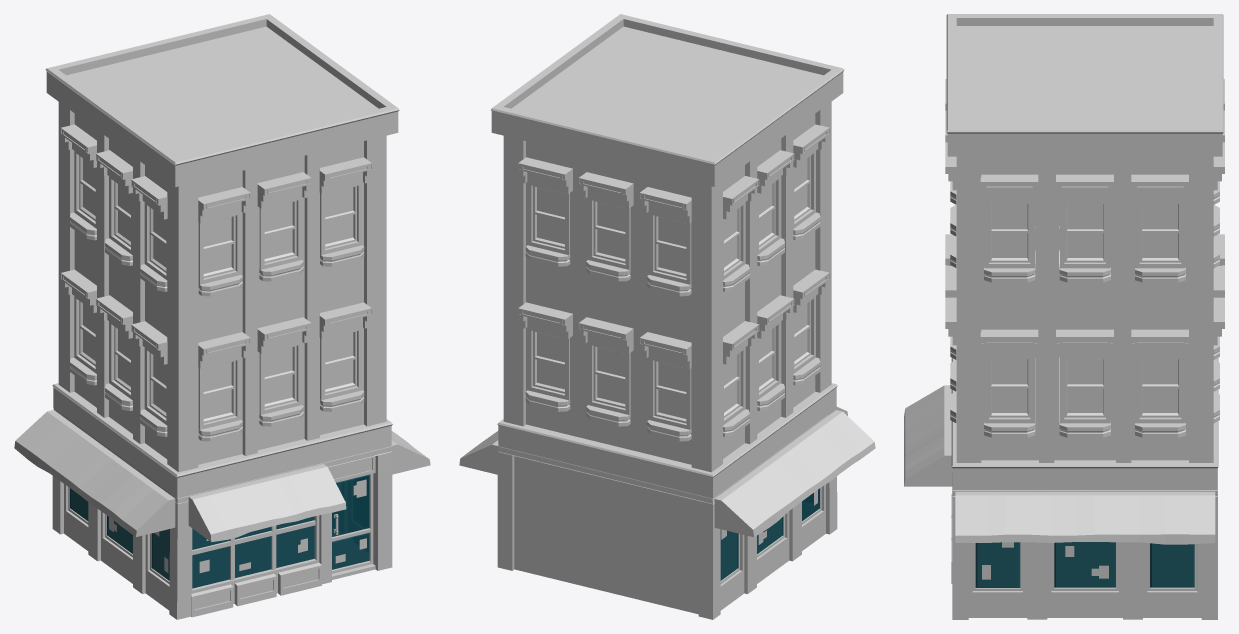
The model's file is shop_01_large.fbx.
The picture shows the model from 3 angles, left to right: view 1: azimuth 30°, elevation 25°; view 2: azimuth 150°, elevation 25°; view 3: azimuth 270°, elevation 25°; orthographic projection. The views are drawn at different scales.
Parts seen in each view (by area): view 1: shop_01_large, shop_01_large_glass; view 2: shop_01_large, shop_01_large_glass; view 3: shop_01_large, shop_01_large_glass.
Boxes of the visible parts, x1,y1,x2,y2 form: shop_01_large: [14, 14, 430, 619]; shop_01_large_glass: [70, 475, 369, 588]; shop_01_large: [459, 14, 875, 619]; shop_01_large_glass: [720, 488, 819, 580]; shop_01_large: [904, 14, 1224, 619]; shop_01_large_glass: [975, 542, 1194, 587].
Size of the model in its own units: 850 by 1270 by 750.
